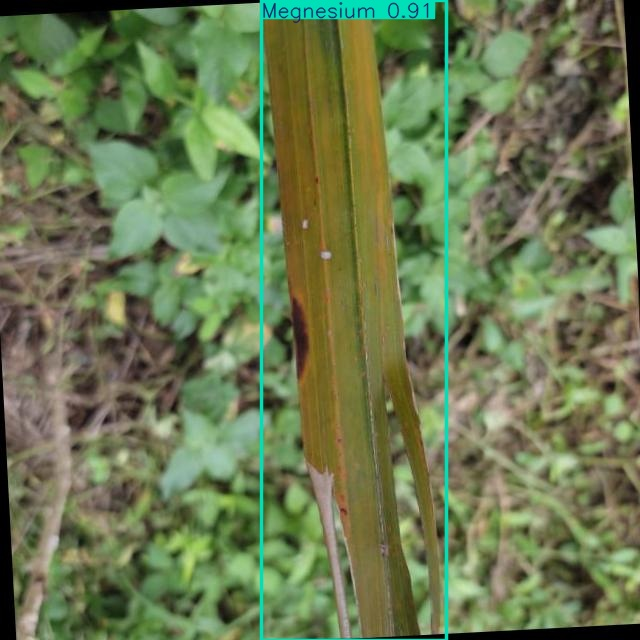Megnesium: (262, 0, 446, 640)
